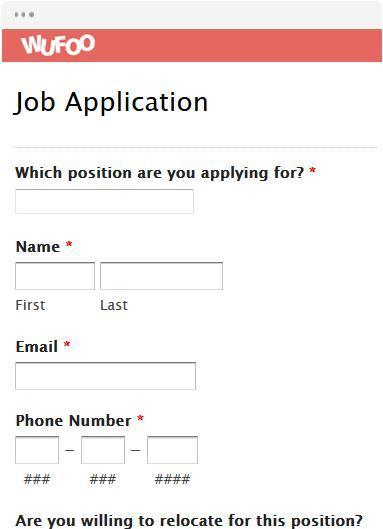input: (16, 363, 196, 391), (16, 190, 196, 216), (103, 263, 225, 290), (17, 262, 96, 291), (148, 438, 199, 465), (16, 438, 60, 466), (82, 438, 126, 465)
label: (13, 508, 366, 529), (14, 163, 319, 186), (14, 409, 149, 433), (12, 237, 76, 260), (14, 338, 74, 358), (93, 299, 139, 316), (11, 296, 50, 314)
